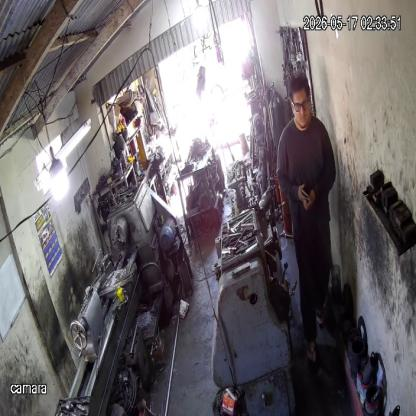lentes: (291, 96, 308, 112)
